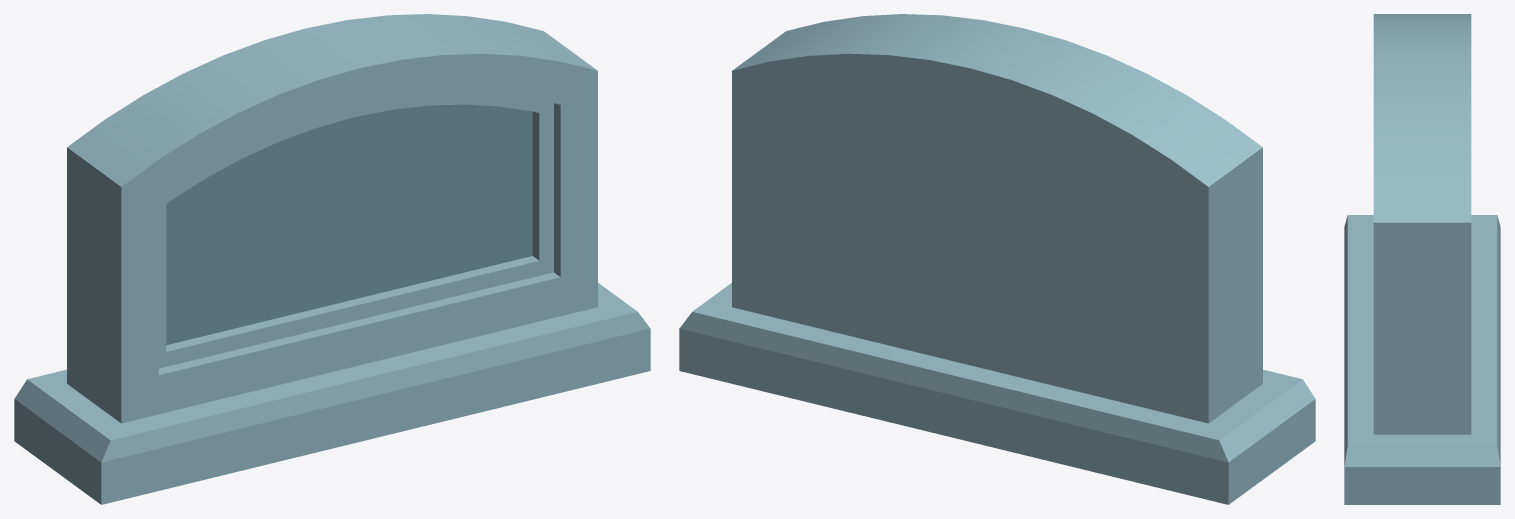
Rendered from gravestoneWide.fbx.
3 views of the same model, side by side, from view 1: azimuth 30°, elevation 25°; view 2: azimuth 150°, elevation 25°; view 3: azimuth 270°, elevation 25° (orthographic). The views are drawn at different scales.
Parts seen in each view (by area): view 1: gravestoneWide; view 2: gravestoneWide; view 3: gravestoneWide.
Part boxes in pixels (x1,y1,x2,y2): gravestoneWide: (14,14,650,504); gravestoneWide: (679,14,1315,504); gravestoneWide: (1344,14,1500,504).
Bounding box in the file's own units: 7.87 × 4.9 × 2.16.
